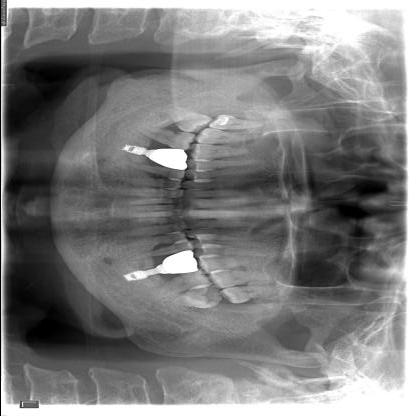Bicon: (112, 262, 170, 286), (116, 141, 160, 161)
